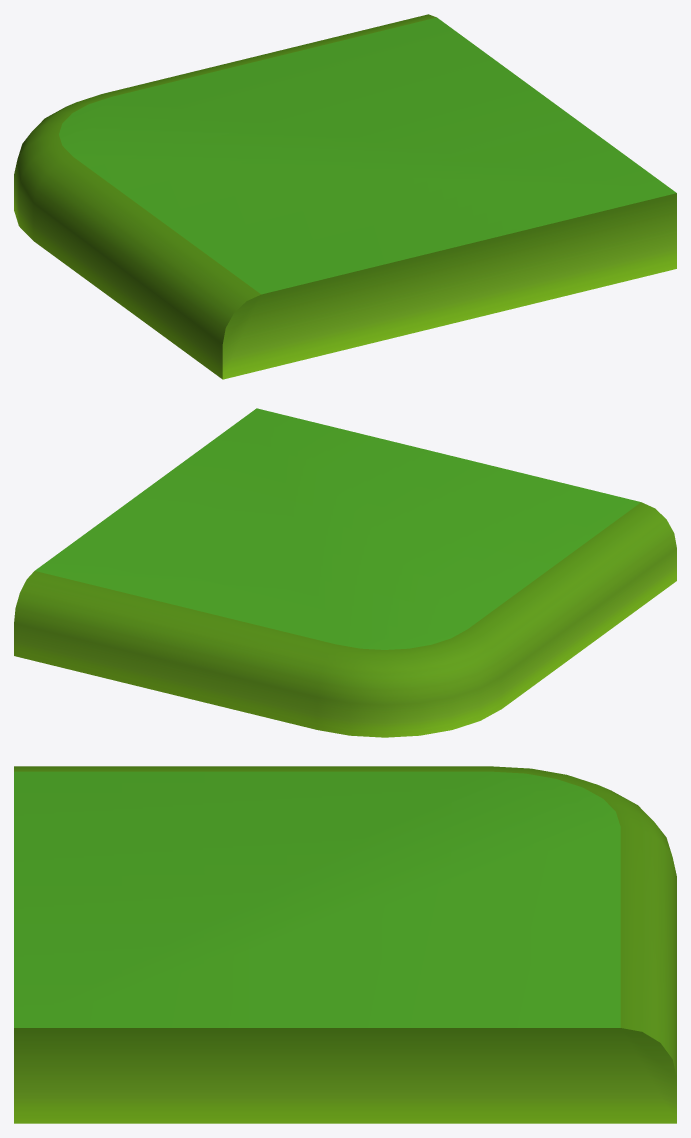
File: GF_Corner_2_2.obj
The picture shows the model from 3 angles, top to bottom: view 1: azimuth 30°, elevation 25°; view 2: azimuth 150°, elevation 25°; view 3: azimuth 270°, elevation 25°; orthographic projection. The views are drawn at different scales.
Visible parts, largest first — view 1: GF_Corner_2_2; view 2: GF_Corner_2_2; view 3: GF_Corner_2_2.
Boxes of the visible parts, left/top/right/bottom form: GF_Corner_2_2: left=14, top=14, right=676, bottom=379; GF_Corner_2_2: left=14, top=408, right=676, bottom=737; GF_Corner_2_2: left=14, top=766, right=676, bottom=1123.
Bounding box in the file's own units: 2 × 0.3187 × 2.
